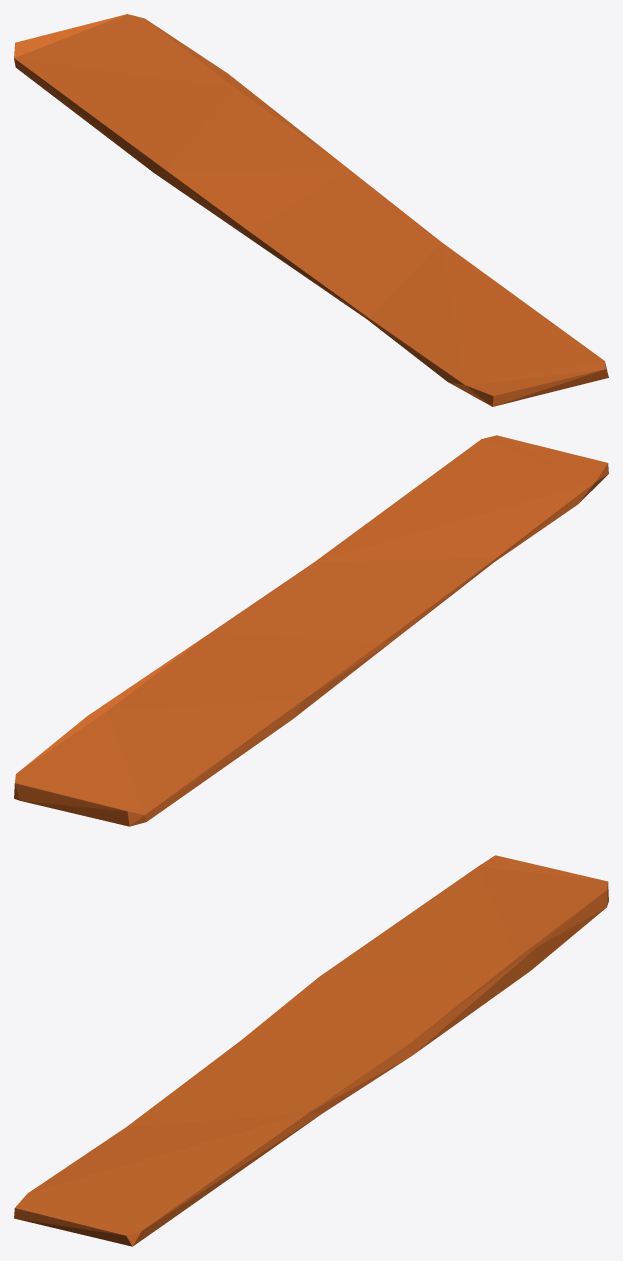
File: Board.fbx
The picture shows the model from 3 angles, top to bottom: view 1: azimuth 30°, elevation 25°; view 2: azimuth 150°, elevation 25°; view 3: azimuth 330°, elevation 25°; orthographic projection.
Visible parts, largest first — view 1: Board; view 2: Board; view 3: Board.
Boxes of the visible parts, x1,y1,x2,y2 form: Board: (14,14,608,406); Board: (14,435,608,826); Board: (14,855,608,1246).
Bounding box in the file's own units: 0.5029 × 0.0758 × 3.
